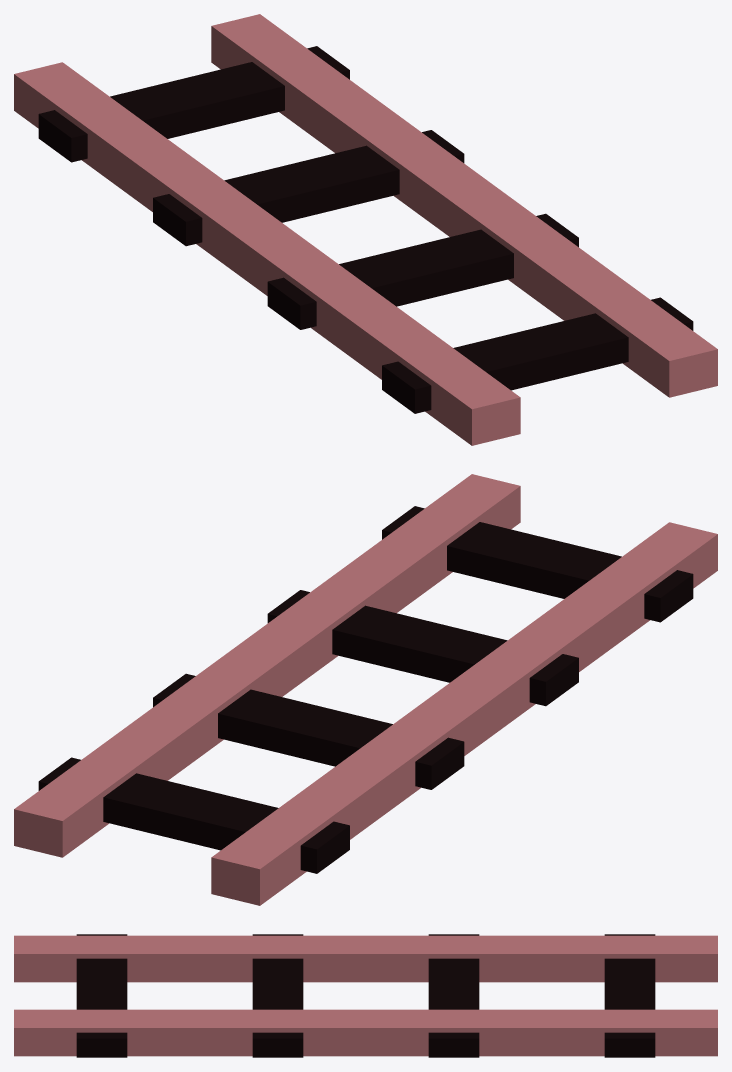
Rendered from Track.obj.
3 views of the same model, one above another, from view 1: azimuth 30°, elevation 25°; view 2: azimuth 150°, elevation 25°; view 3: azimuth 270°, elevation 25° (orthographic). The views are drawn at different scales.
Parts seen in each view (by area): view 1: Track; view 2: Track; view 3: Track.
Boxes of the visible parts, left/top/right/bottom form: Track: left=14, top=14, right=717, bottom=445; Track: left=14, top=474, right=717, bottom=905; Track: left=14, top=934, right=717, bottom=1057.
Size of the model in its own units: 2 by 0.2515 by 5.7.
